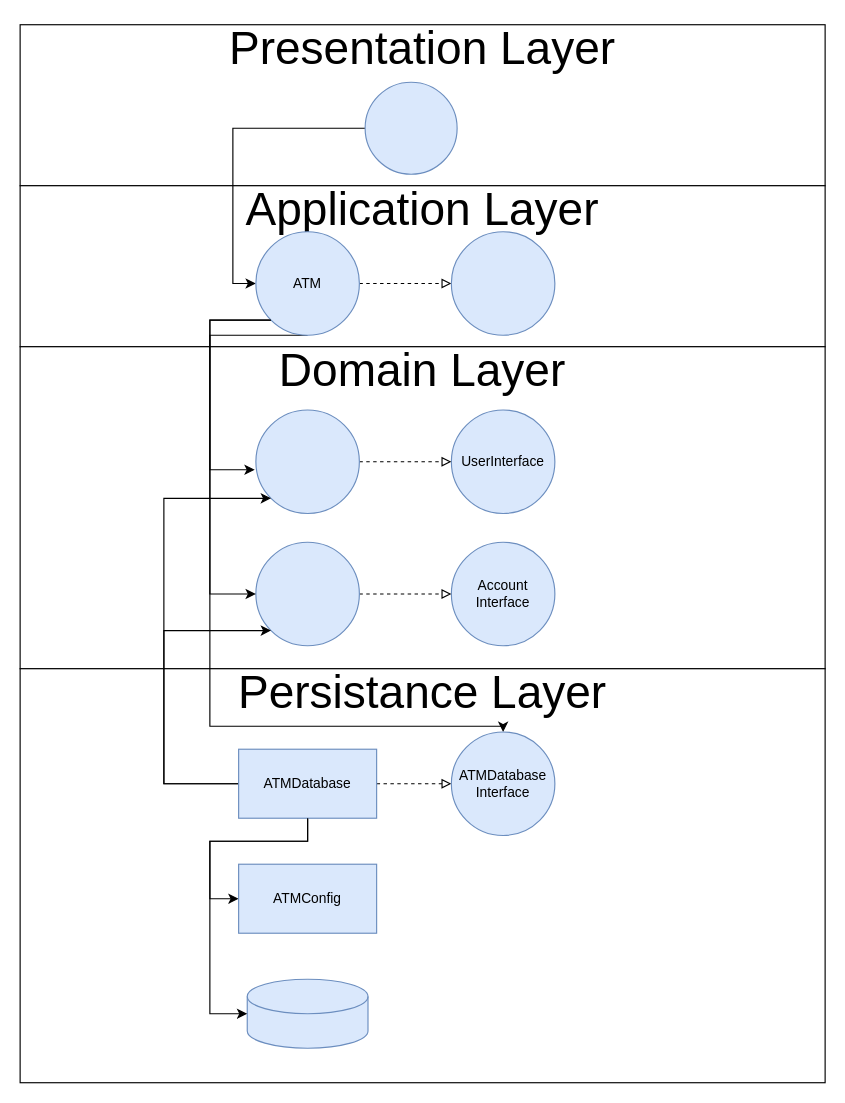
Image size: 845x1103. Some labels were removed from this diagram. Each missing label, with the centre of its shape:
"Account" goes at [307,593].
"ATMInterface" goes at [502,283].
"MySQL DB" goes at [307,1013].
"Terminal" goes at [410,127].
"User" goes at [307,461].
